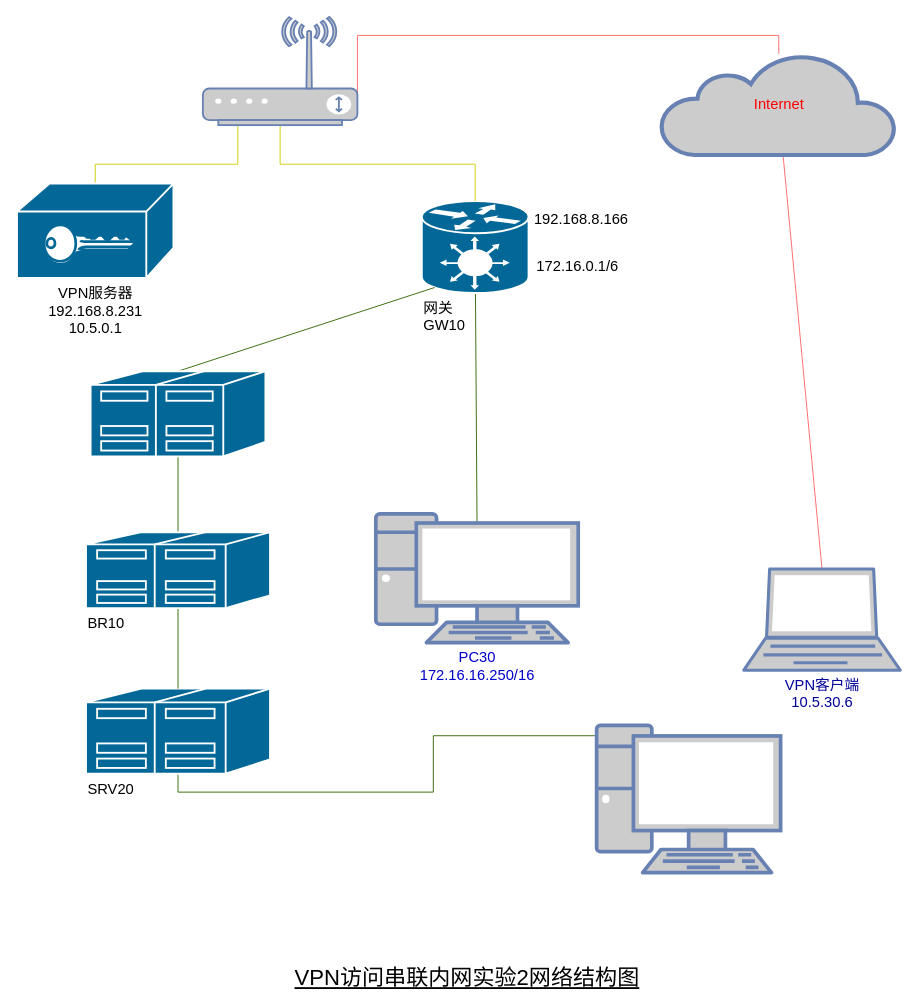
Some shapes in this 916 by 1007 pixel diagram are drawn without their labels. The shapes that lost their labels are listed below. From the top down, each one's centre as x and y in pixels, then its label:
the point at 279,71: 光猫
the point at 177,413: SRV10
the point at 688,798: PC20 172.16.15.250/16
